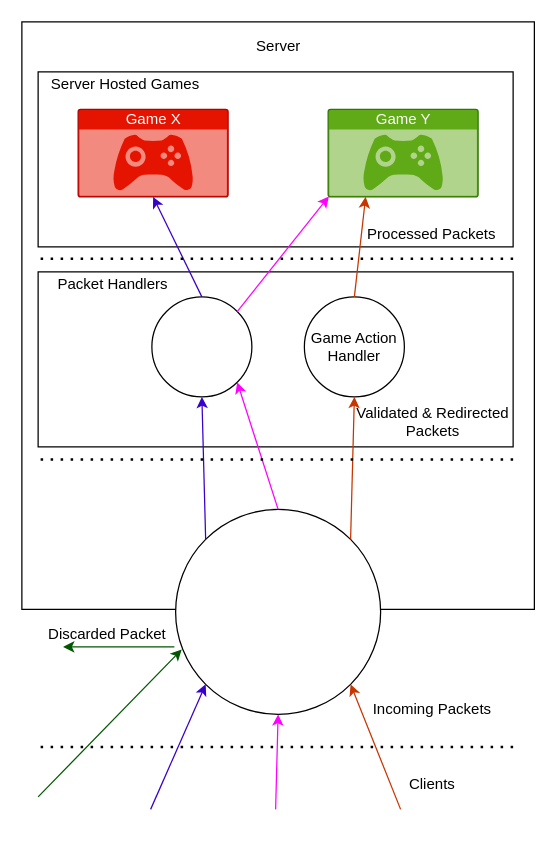
Image size: 556x841. Some labels were removed from this diagram. Each missing label, with the box of its shape:
Game Lobby Handler: (151, 296, 252, 397)
Handler Context: (174, 508, 381, 714)
